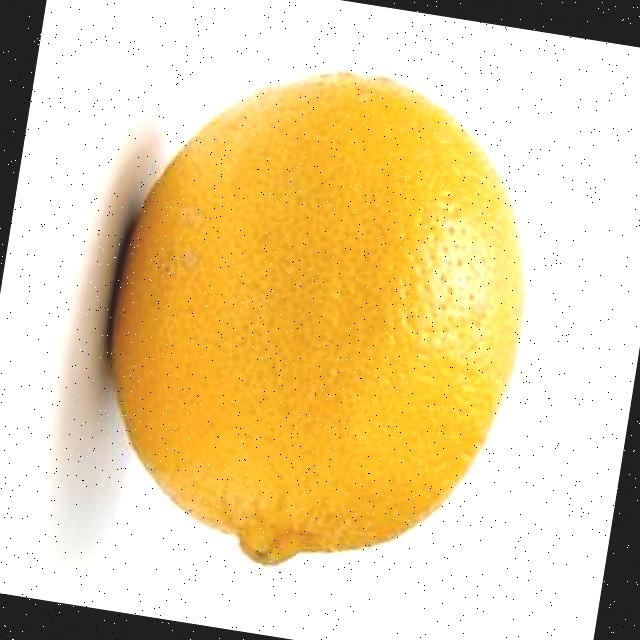Ripe: (73, 36, 568, 599)
